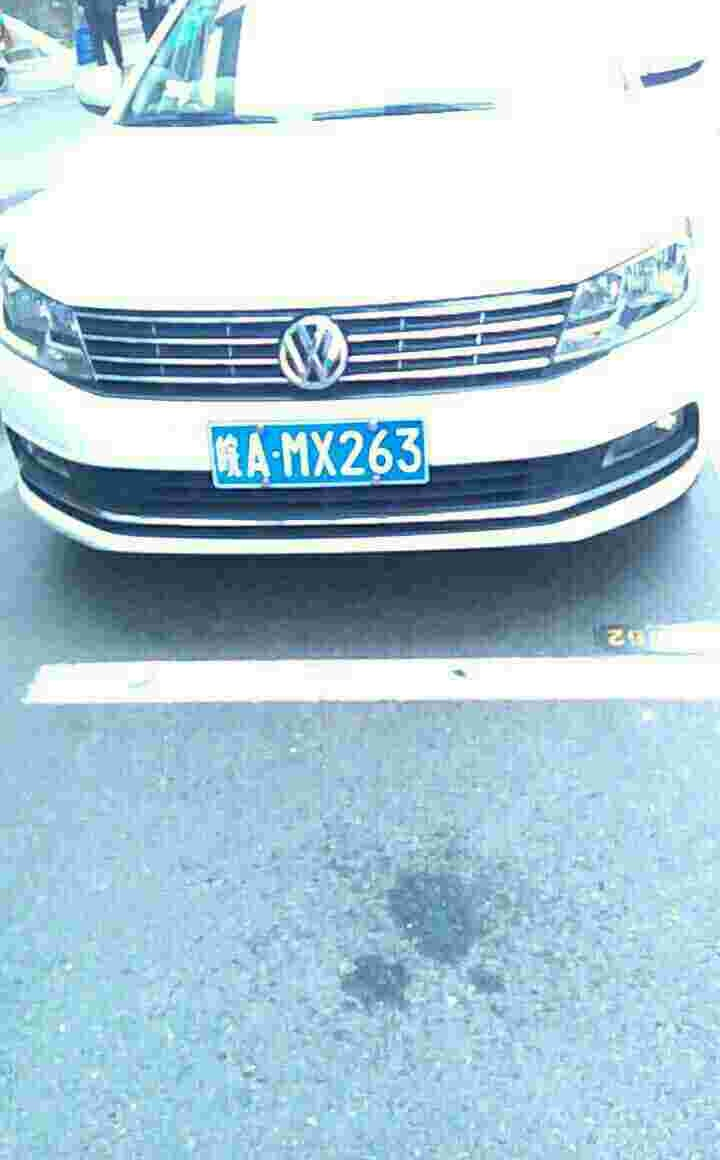license_plate: (212, 422, 434, 488)
